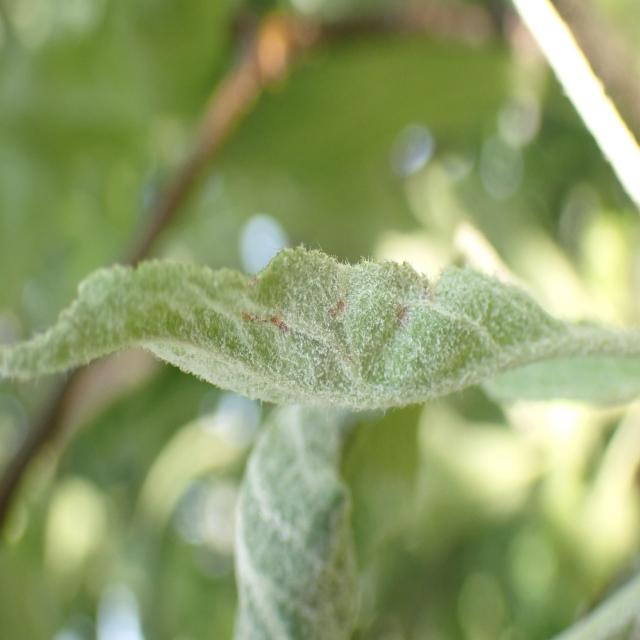Powdery_mildew: (0, 220, 634, 428), (194, 394, 373, 640)
